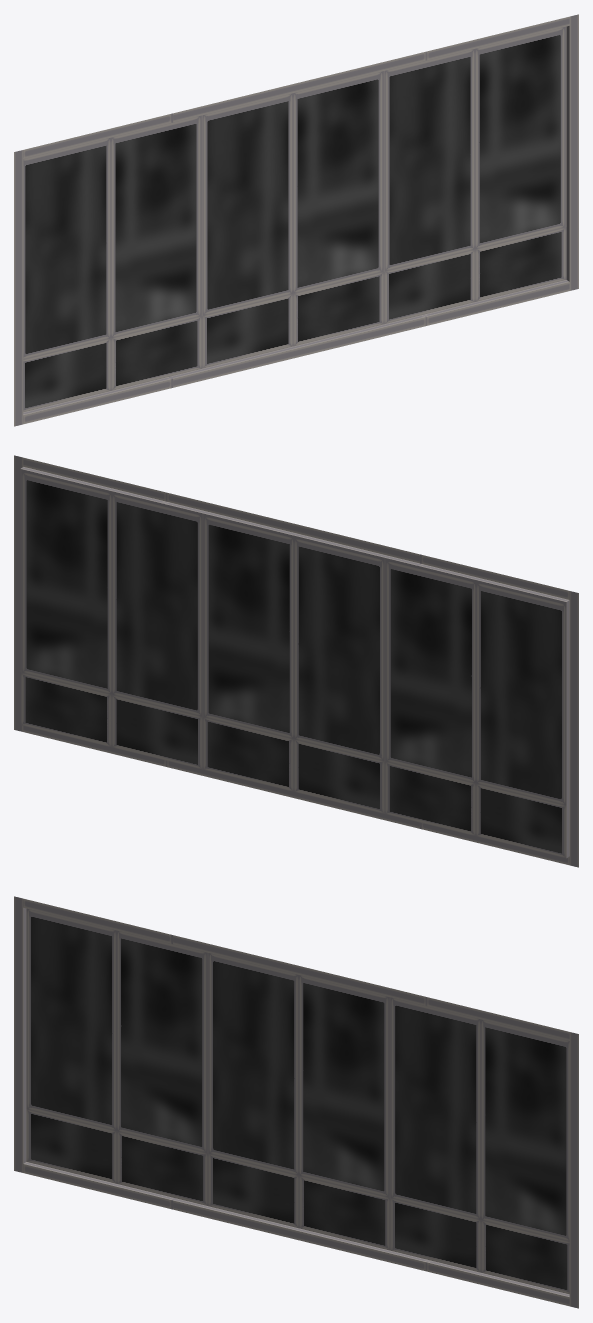
File: SM_ENV_K2_WINDOW_03.fbx
3 renders of one model, top to bottom at view 1: azimuth 30°, elevation 25°; view 2: azimuth 150°, elevation 25°; view 3: azimuth 330°, elevation 25°, orthographic.
Parts seen in each view (by area): view 1: SM_ENV_K2_WINDOW_03; view 2: SM_ENV_K2_WINDOW_03; view 3: SM_ENV_K2_WINDOW_03.
Boxes of the visible parts, x1,y1,x2,y2 form: SM_ENV_K2_WINDOW_03: (14, 14, 578, 426); SM_ENV_K2_WINDOW_03: (14, 455, 578, 867); SM_ENV_K2_WINDOW_03: (14, 896, 578, 1308).
Bounding box in the file's own units: 5.6 × 2.6 × 0.05.
